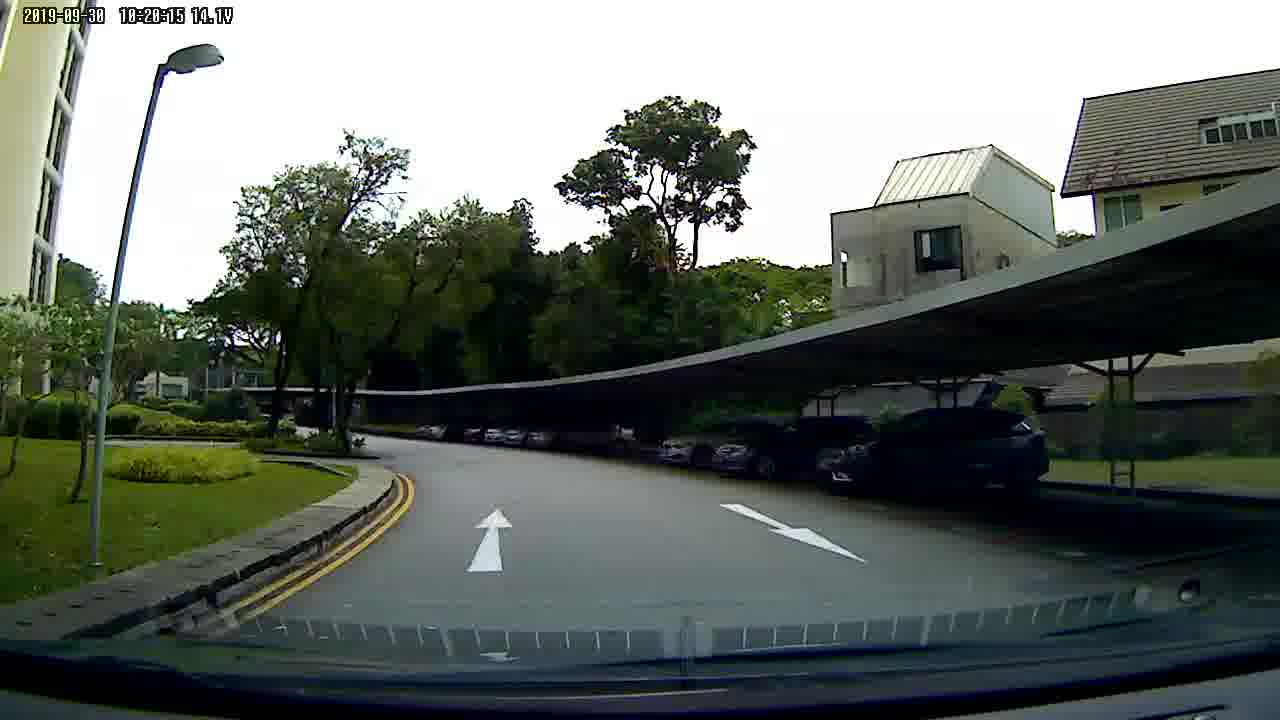car: (818, 407, 1055, 504), (713, 413, 817, 477), (655, 426, 712, 465)
